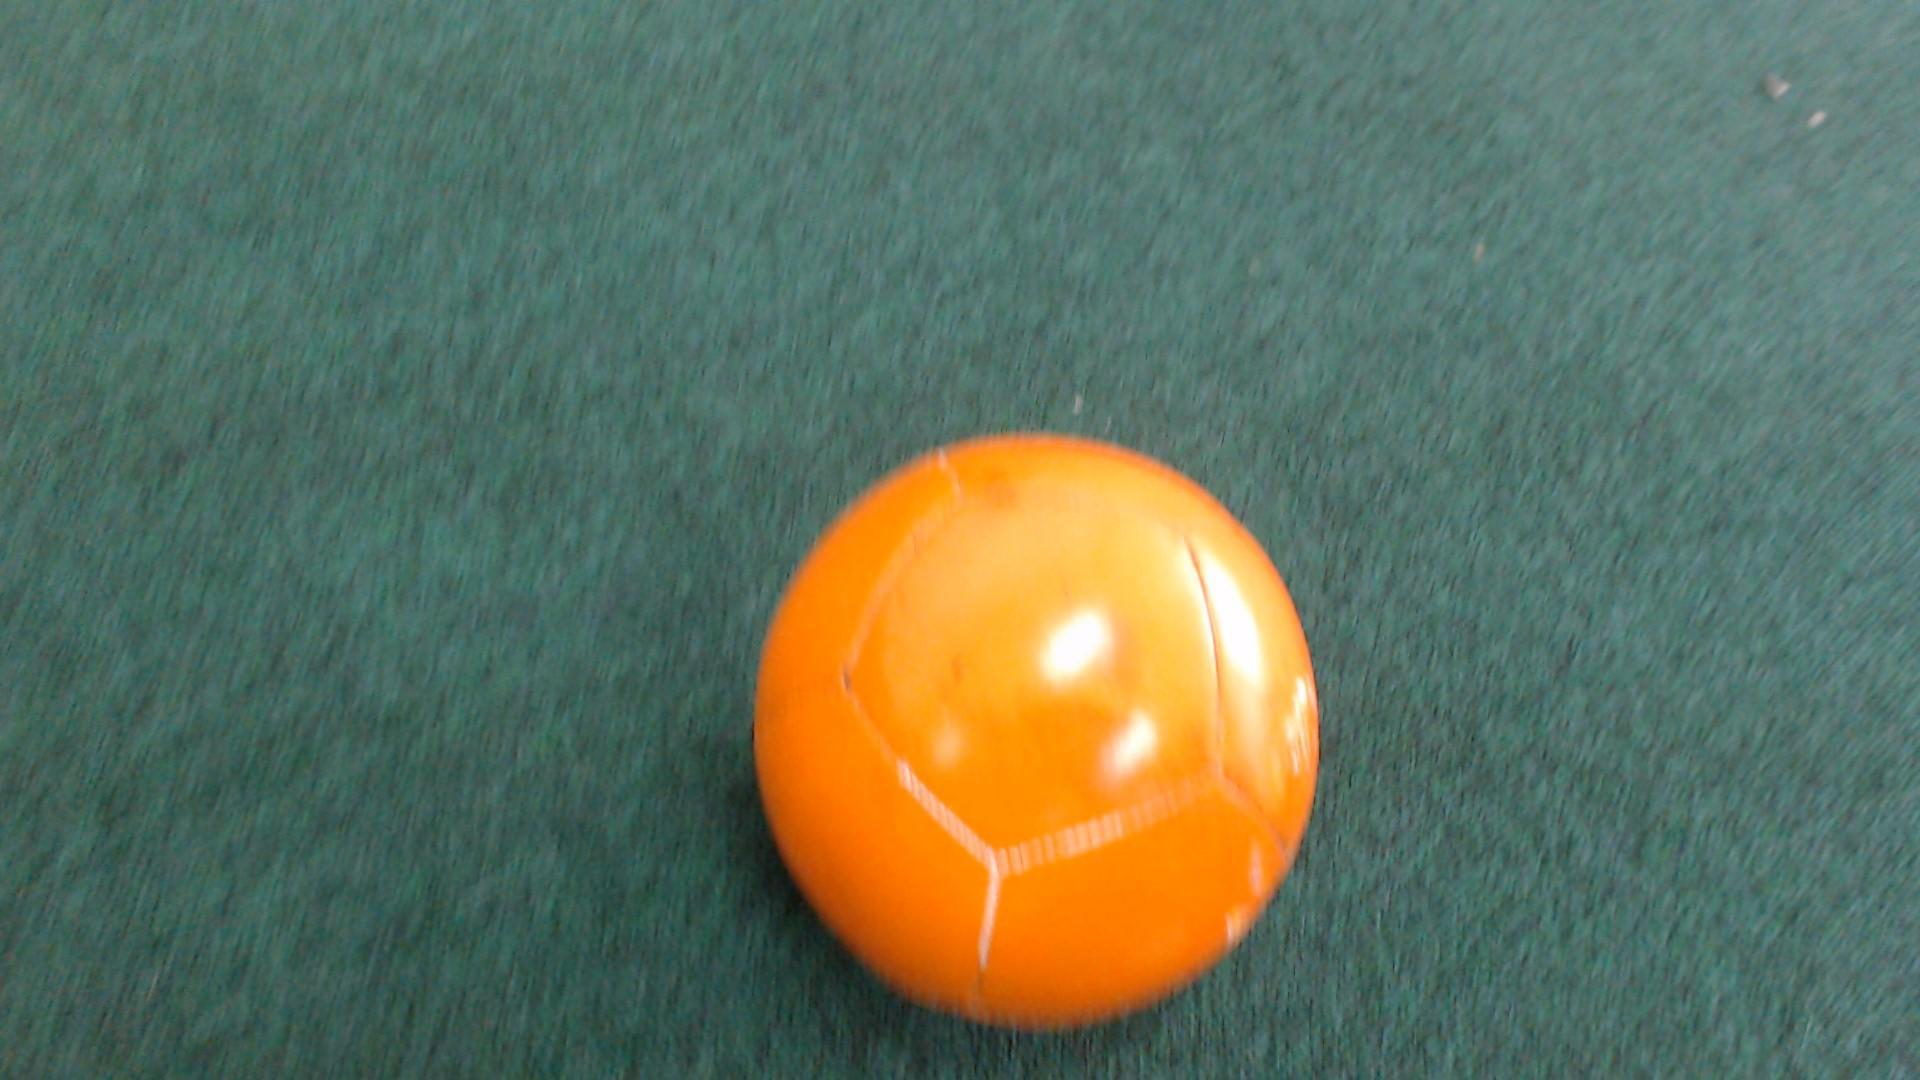bola: (708, 402, 1371, 1055)
